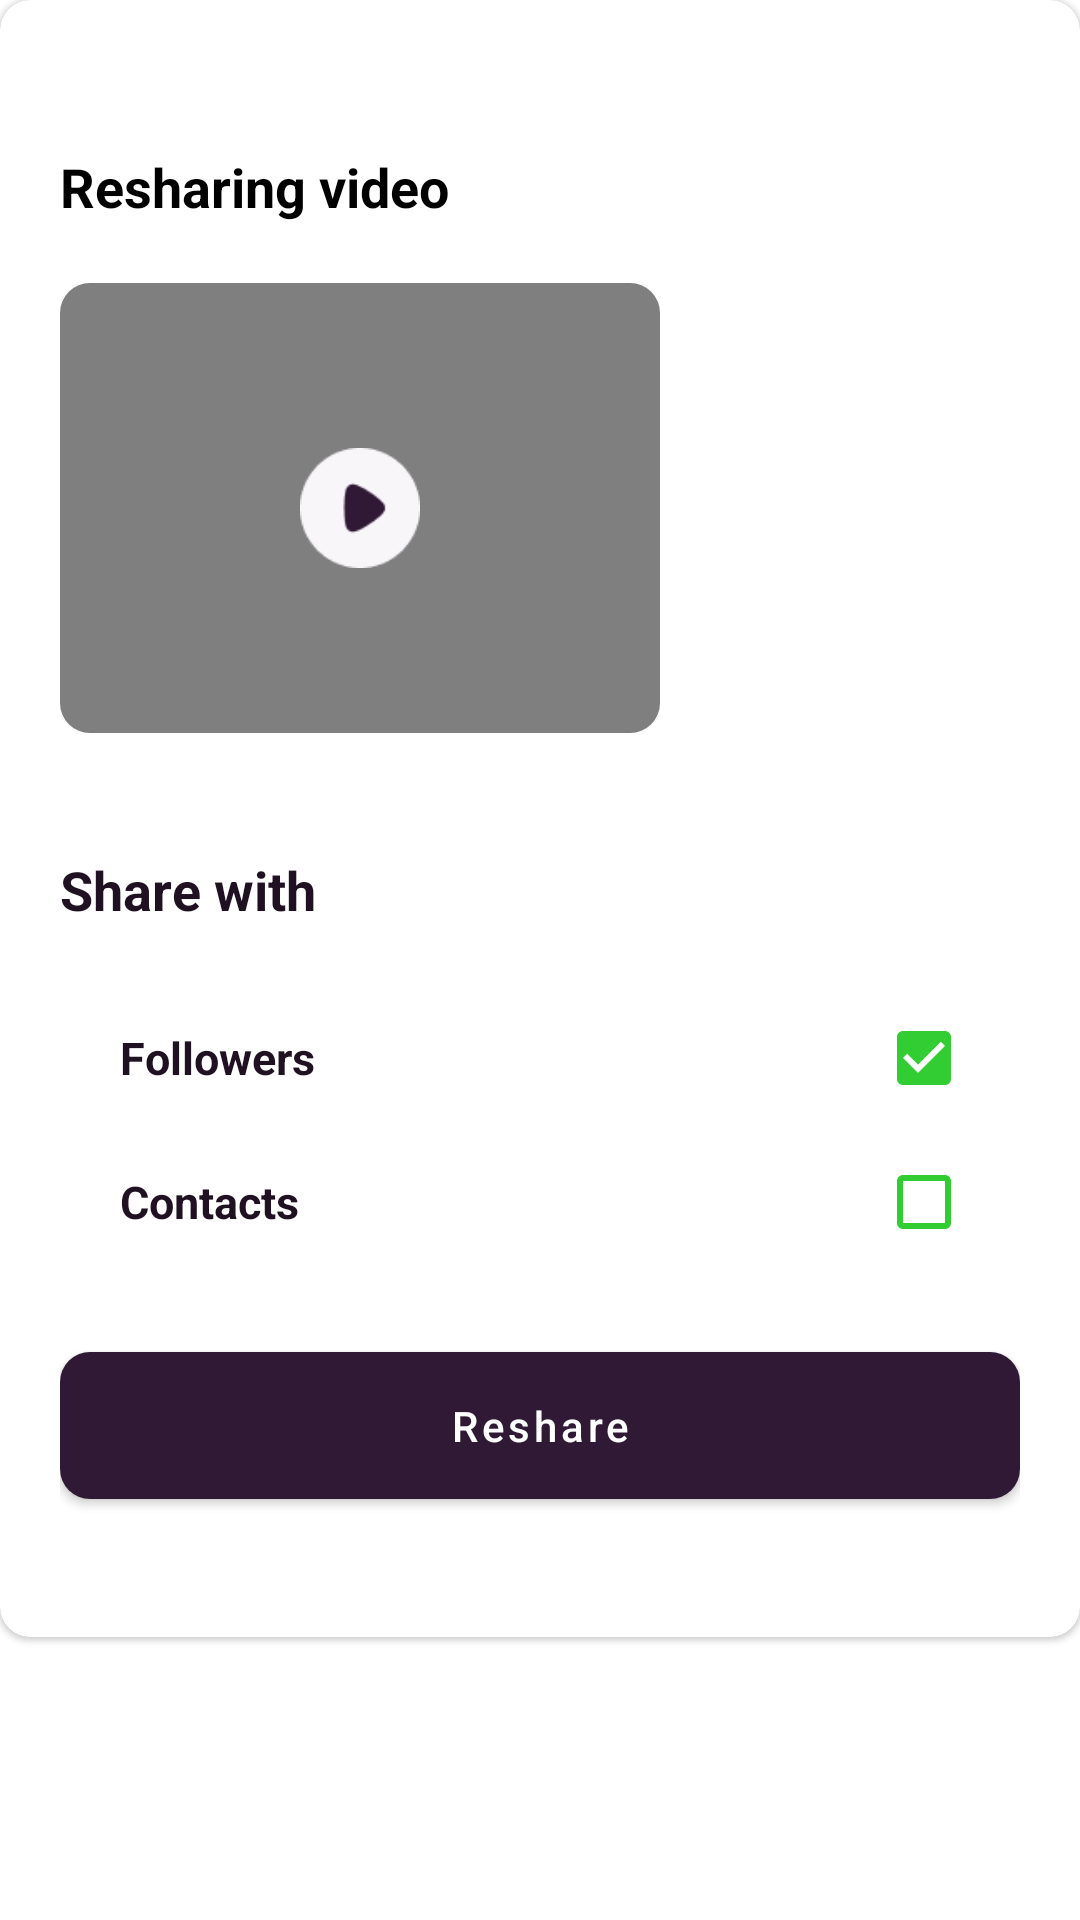

Point at icon controls on the screen. Image size 1080px x 1920px, points as [x,y].
play: [360,508]
